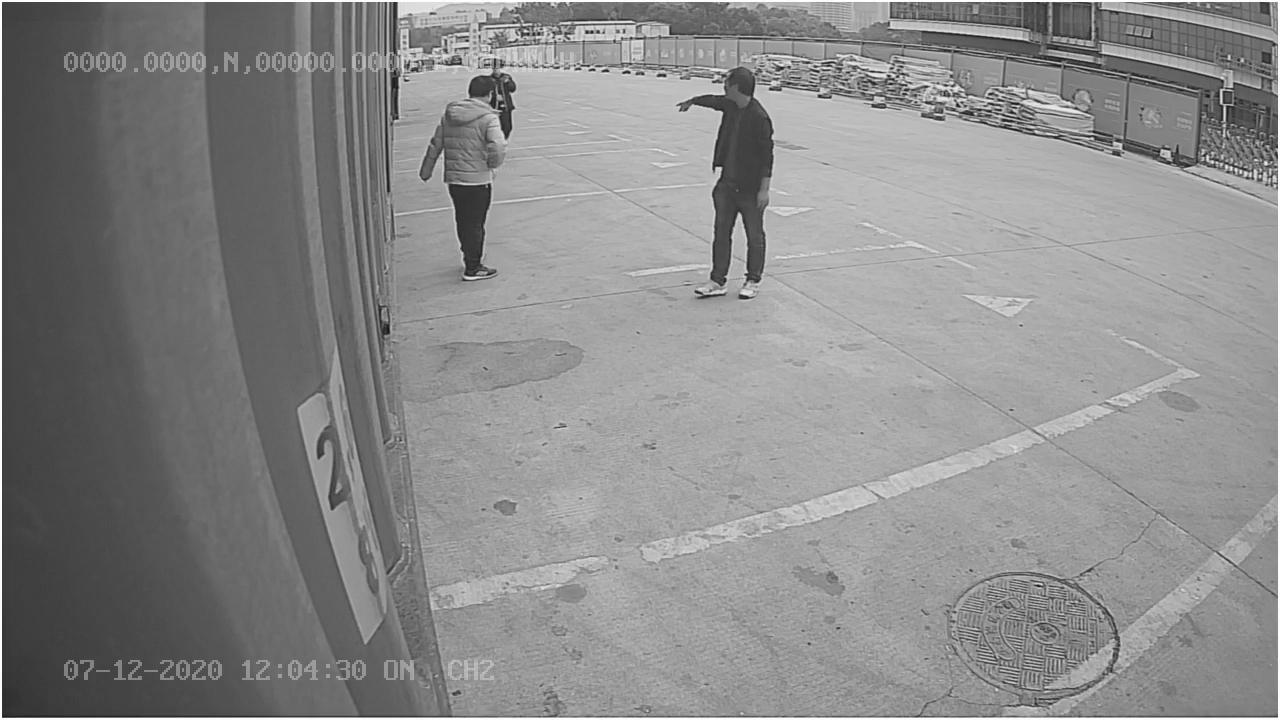person: (676, 65, 780, 301)
